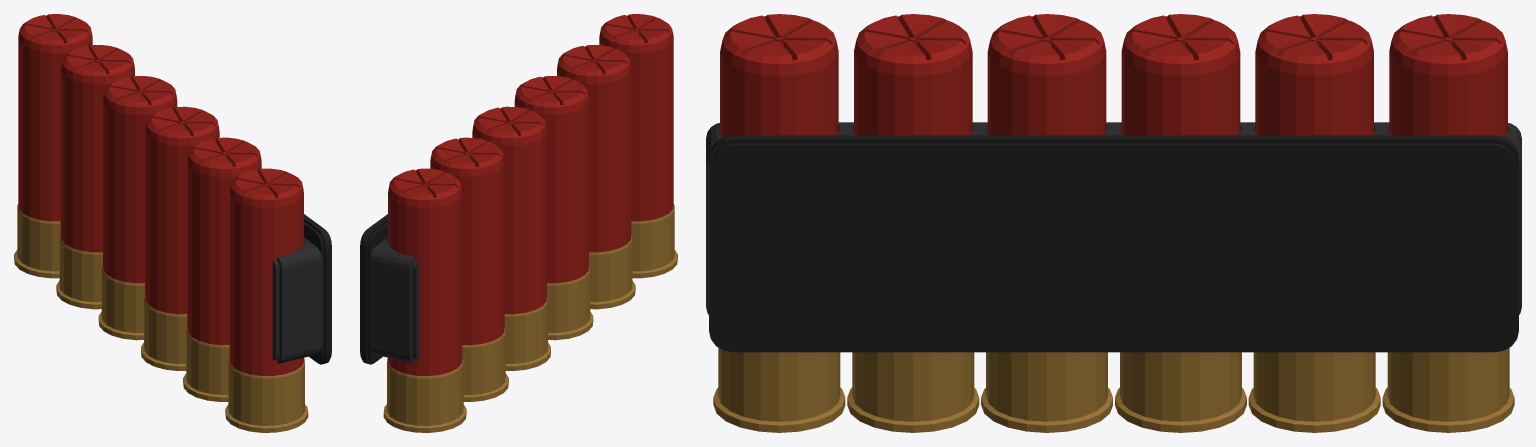
The model's file is porta_cartuchos_lateral_12.glb.
The picture shows the model from 3 angles, left to right: view 1: azimuth 30°, elevation 25°; view 2: azimuth 150°, elevation 25°; view 3: azimuth 270°, elevation 25°; orthographic projection. The views are drawn at different scales.
Visible parts, largest first — view 1: porta_cartuchos_lateral_12_casca_vermelha, porta_cartuchos_lateral_12_latao, porta_cartuchos_lateral_12_polimero, porta_cartuchos_lateral_12_aluminio_preto; view 2: porta_cartuchos_lateral_12_casca_vermelha, porta_cartuchos_lateral_12_latao, porta_cartuchos_lateral_12_polimero, porta_cartuchos_lateral_12_aluminio_preto; view 3: porta_cartuchos_lateral_12_aluminio_preto, porta_cartuchos_lateral_12_casca_vermelha, porta_cartuchos_lateral_12_latao, porta_cartuchos_lateral_12_polimero.
Part boxes in pixels (bbox=[...]): porta_cartuchos_lateral_12_casca_vermelha: bbox=[18, 14, 303, 375]; porta_cartuchos_lateral_12_latao: bbox=[14, 204, 308, 432]; porta_cartuchos_lateral_12_polimero: bbox=[272, 237, 322, 363]; porta_cartuchos_lateral_12_aluminio_preto: bbox=[304, 214, 331, 364]; porta_cartuchos_lateral_12_casca_vermelha: bbox=[388, 14, 673, 375]; porta_cartuchos_lateral_12_latao: bbox=[383, 204, 677, 432]; porta_cartuchos_lateral_12_polimero: bbox=[369, 237, 419, 363]; porta_cartuchos_lateral_12_aluminio_preto: bbox=[360, 214, 387, 364]; porta_cartuchos_lateral_12_aluminio_preto: bbox=[709, 135, 1518, 352]; porta_cartuchos_lateral_12_casca_vermelha: bbox=[720, 14, 1507, 136]; porta_cartuchos_lateral_12_latao: bbox=[713, 347, 1514, 432]; porta_cartuchos_lateral_12_polimero: bbox=[706, 122, 1521, 314].
Bounding box in the file's own units: 0.025 × 0.0697 × 0.139.
